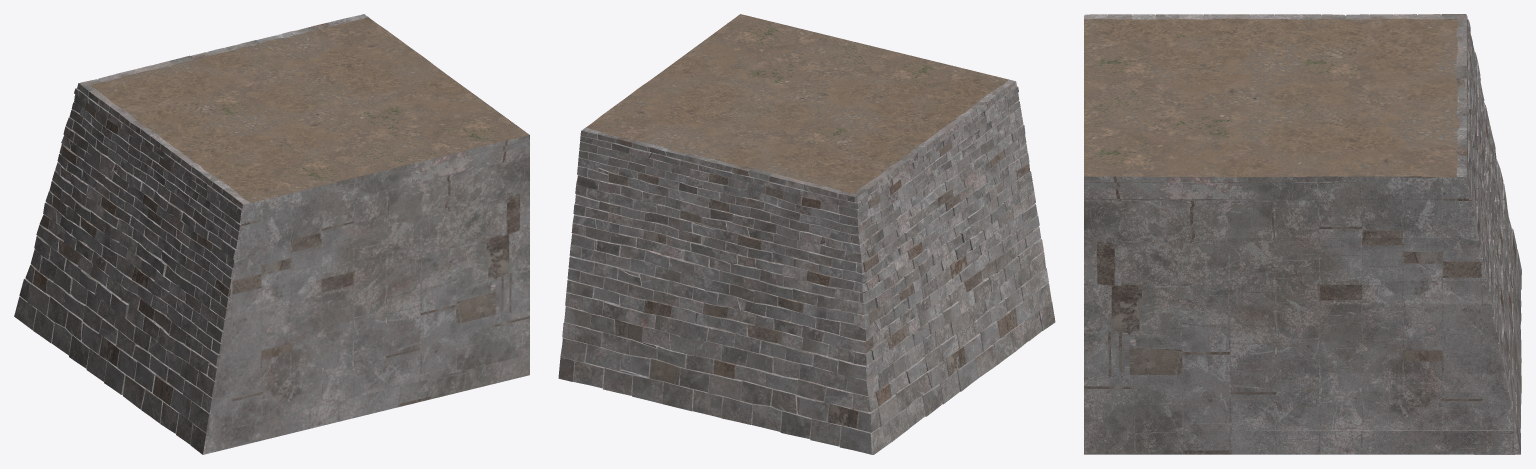
Rendered from SM_Stone_Barrier02a.fbx.
3 renders of one model, left to right at view 1: azimuth 30°, elevation 25°; view 2: azimuth 150°, elevation 25°; view 3: azimuth 270°, elevation 25°, orthographic. The views are drawn at different scales.
Visible parts, largest first — view 1: SM_Stone_Barrier02a; view 2: SM_Stone_Barrier02a; view 3: SM_Stone_Barrier02a.
Boxes of the visible parts, x1,y1,x2,y2 form: SM_Stone_Barrier02a: (14, 14, 529, 454); SM_Stone_Barrier02a: (558, 14, 1055, 454); SM_Stone_Barrier02a: (1084, 14, 1521, 454).
Size of the model in its own units: 568 by 567 by 398.
2 materials, 2 textured.
